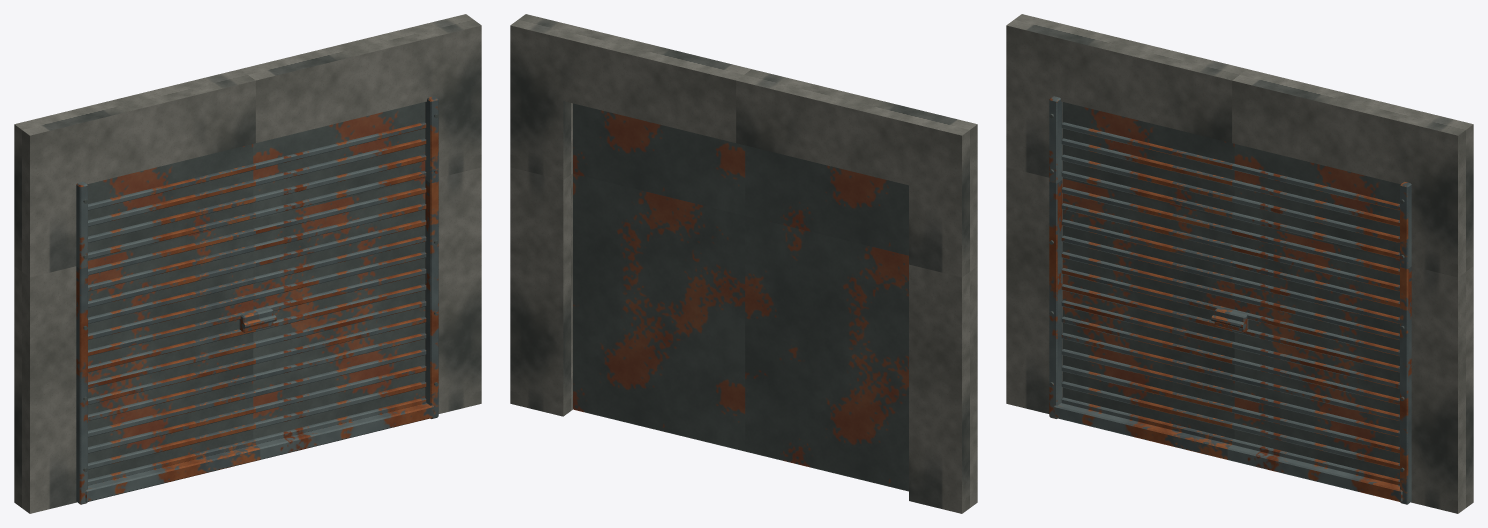
File: wall_garage_4m_v03.glb
3 views of the same model, side by side, from view 1: azimuth 30°, elevation 25°; view 2: azimuth 150°, elevation 25°; view 3: azimuth 330°, elevation 25° (orthographic).
Parts seen in each view (by area): view 1: concrete_combined, roof_combined, steel_combined; view 2: roof_combined, concrete_combined; view 3: concrete_combined, roof_combined, steel_combined.
Part boxes in pixels (box(x1,y1,x2,y2)): concrete_combined: box(14, 14, 481, 513); roof_combined: box(83, 102, 438, 479); steel_combined: box(76, 96, 438, 504); roof_combined: box(573, 103, 908, 491); concrete_combined: box(510, 14, 977, 513); concrete_combined: box(1006, 14, 1473, 513); roof_combined: box(1049, 102, 1404, 479); steel_combined: box(1049, 96, 1411, 504).
Size of the model in its own units: 4 by 3.2 by 0.327.
3 materials, 3 textured.
